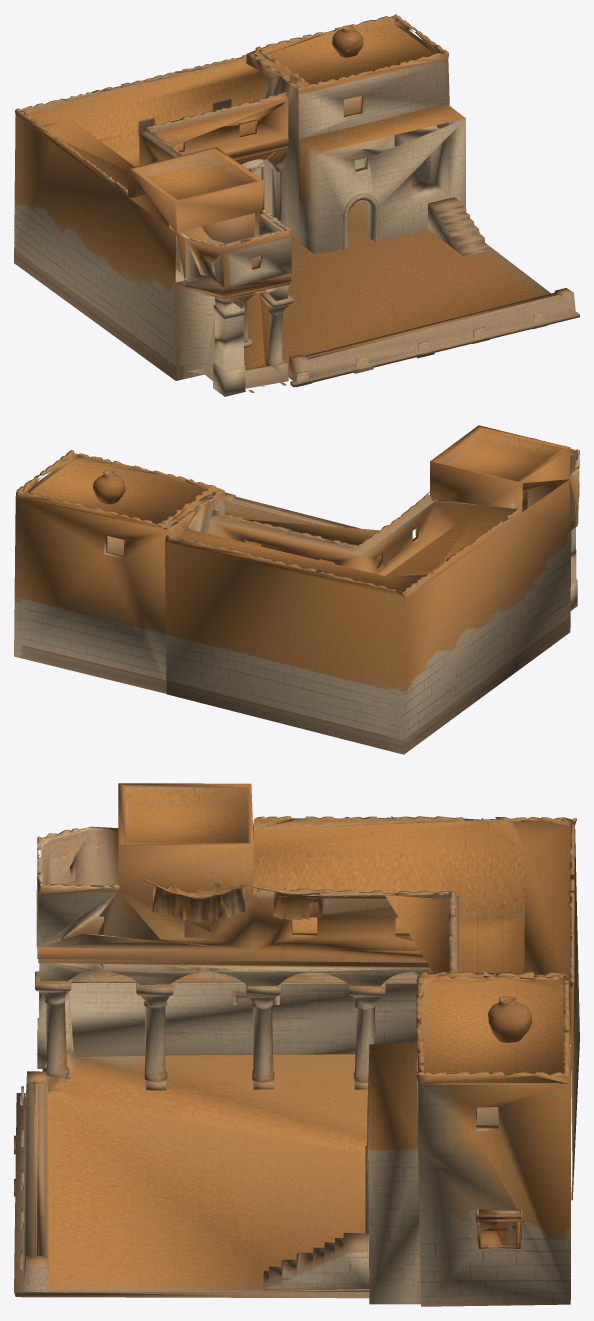
The model's file is house-4.glb.
3 renders of one model, top to bottom at view 1: azimuth 30°, elevation 25°; view 2: azimuth 150°, elevation 25°; view 3: azimuth 270°, elevation 25°, orthographic. The views are drawn at different scales.
Size of the model in its own units: 0.9541 by 0.4238 by 0.8428.
1 material, 1 textured.
